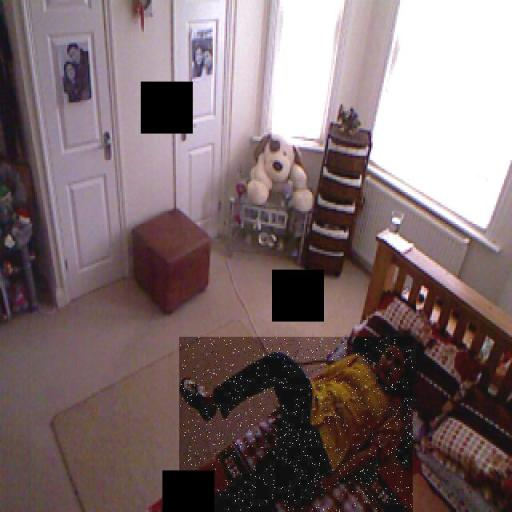Fall: (179, 337, 413, 512)
